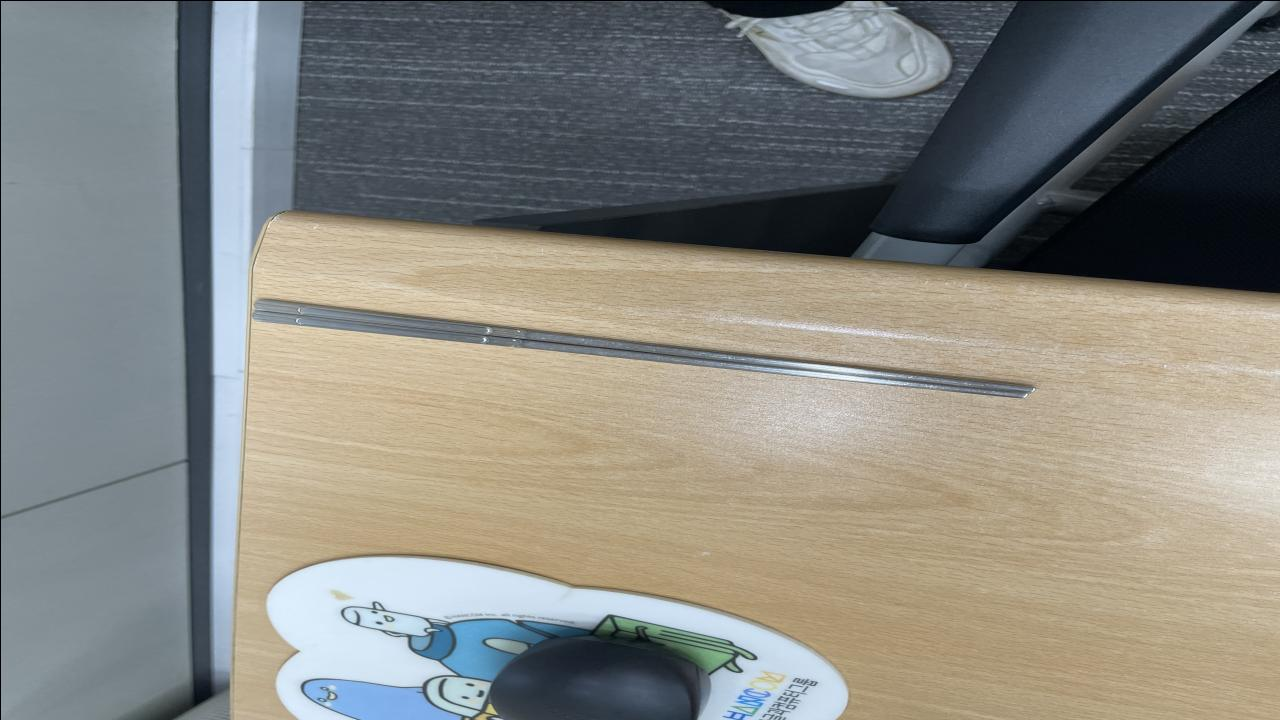chopstick: (244, 297, 1034, 398)
